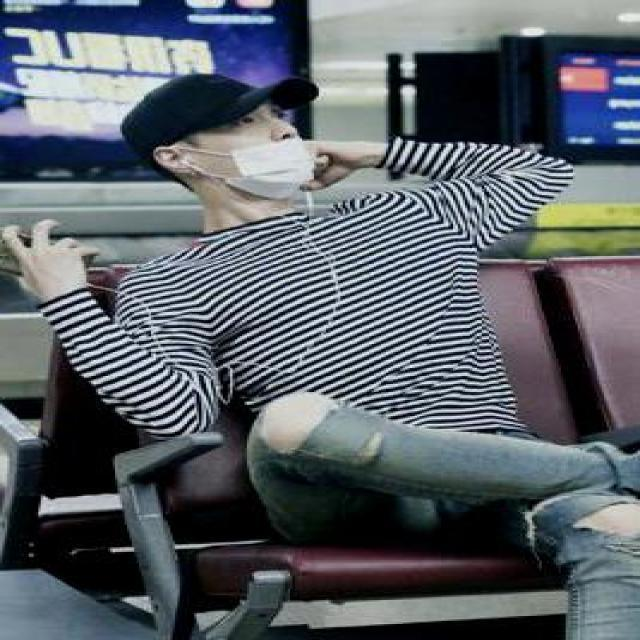hairnet: (144, 76, 316, 204)
